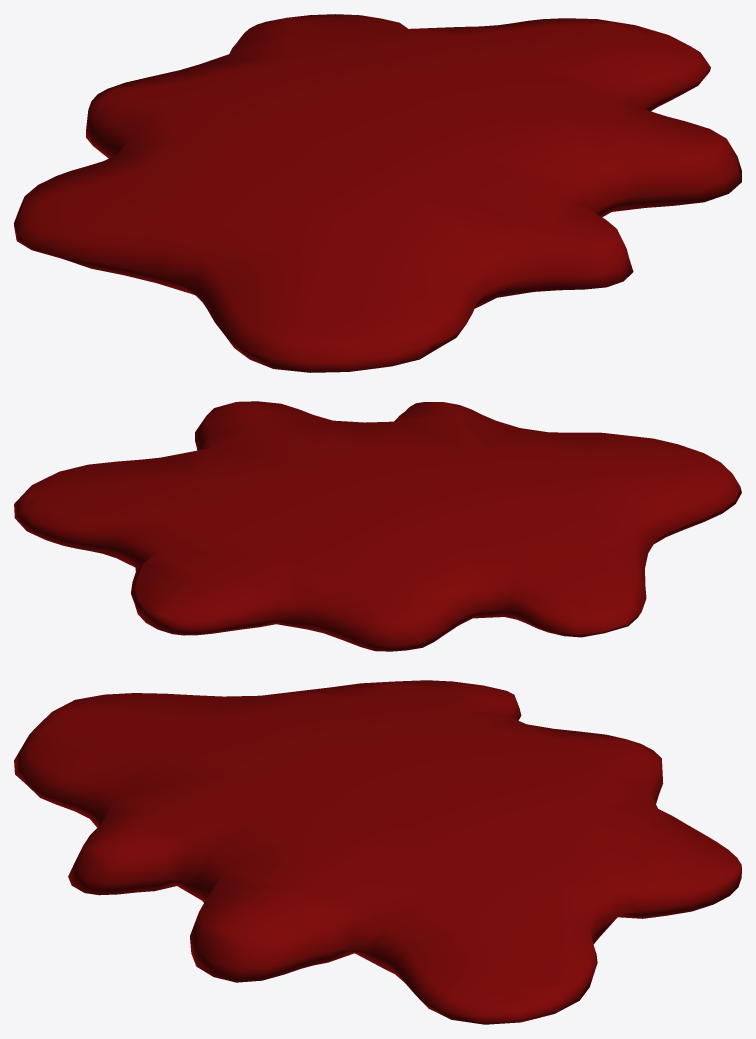
File: m_sauce_1.FBX
3 views of the same model, one above another, from view 1: azimuth 30°, elevation 25°; view 2: azimuth 150°, elevation 25°; view 3: azimuth 270°, elevation 25° (orthographic). The views are drawn at different scales.
Parts seen in each view (by area): view 1: m_sauce_1; view 2: m_sauce_1; view 3: m_sauce_1.
Boxes of the visible parts, x1=… form: m_sauce_1: x1=14, y1=14, x2=741, y2=372; m_sauce_1: x1=14, y1=401, x2=741, y2=651; m_sauce_1: x1=14, y1=680, x2=741, y2=1024.
Size of the model in its own units: 170 by 14.65 by 155.
